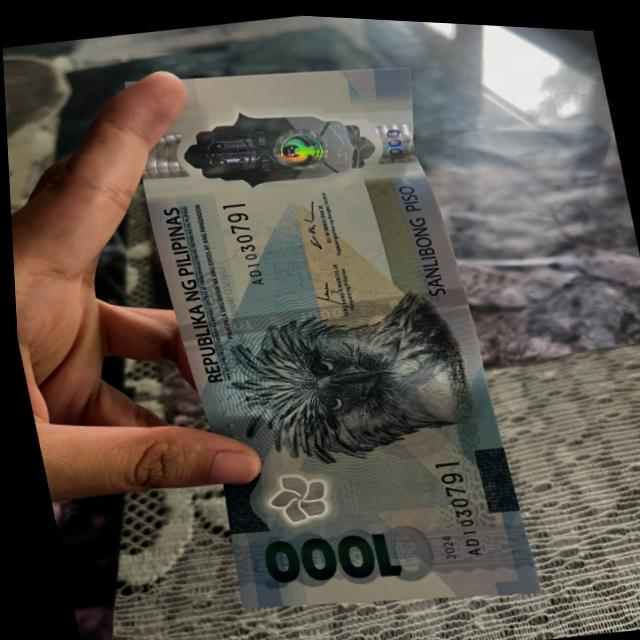clear_window: (160, 79, 370, 203)
eagle: (206, 275, 480, 471)
sampaguita: (254, 450, 373, 532)
security_thread: (173, 270, 478, 363)
serial_number: (426, 443, 488, 575)
value_watermark: (371, 107, 423, 173)
